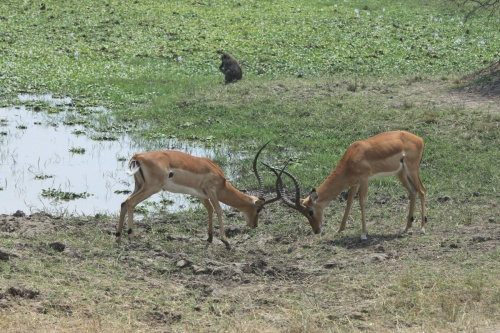impala: (274, 126, 430, 246), (113, 140, 286, 248)
